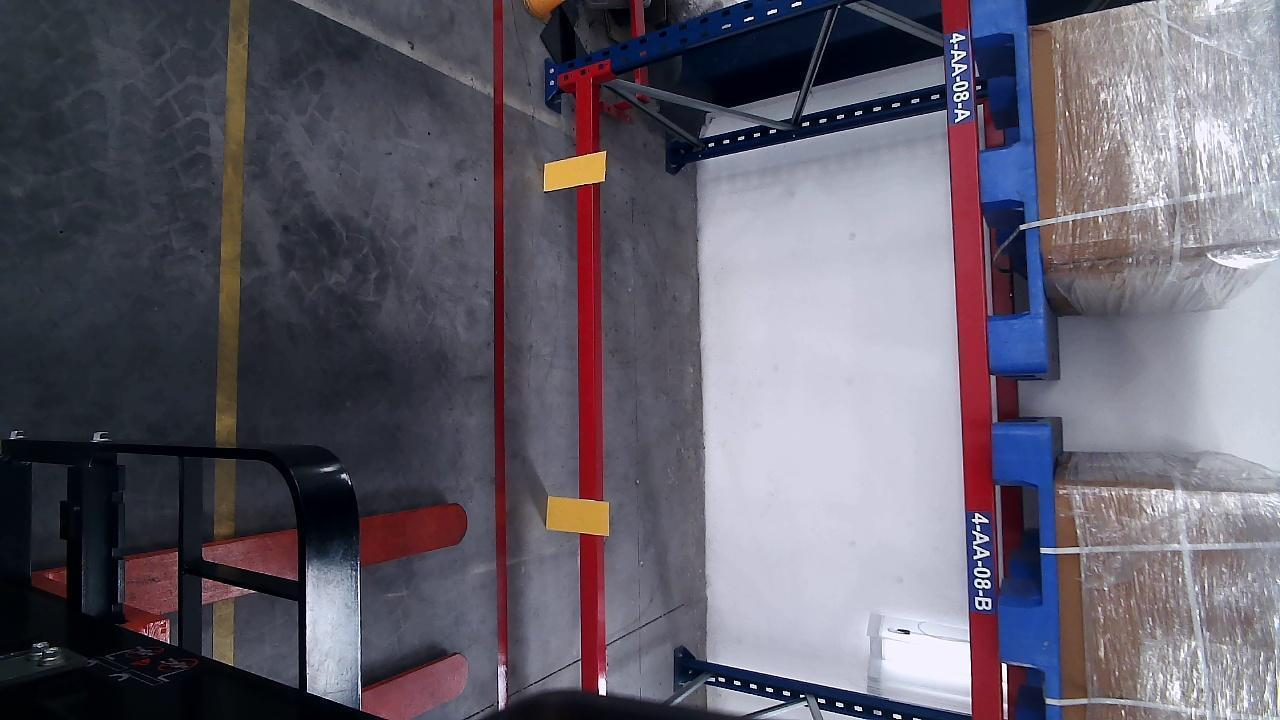red_line: (491, 2, 509, 708)
yellow_line: (215, 2, 249, 441)
